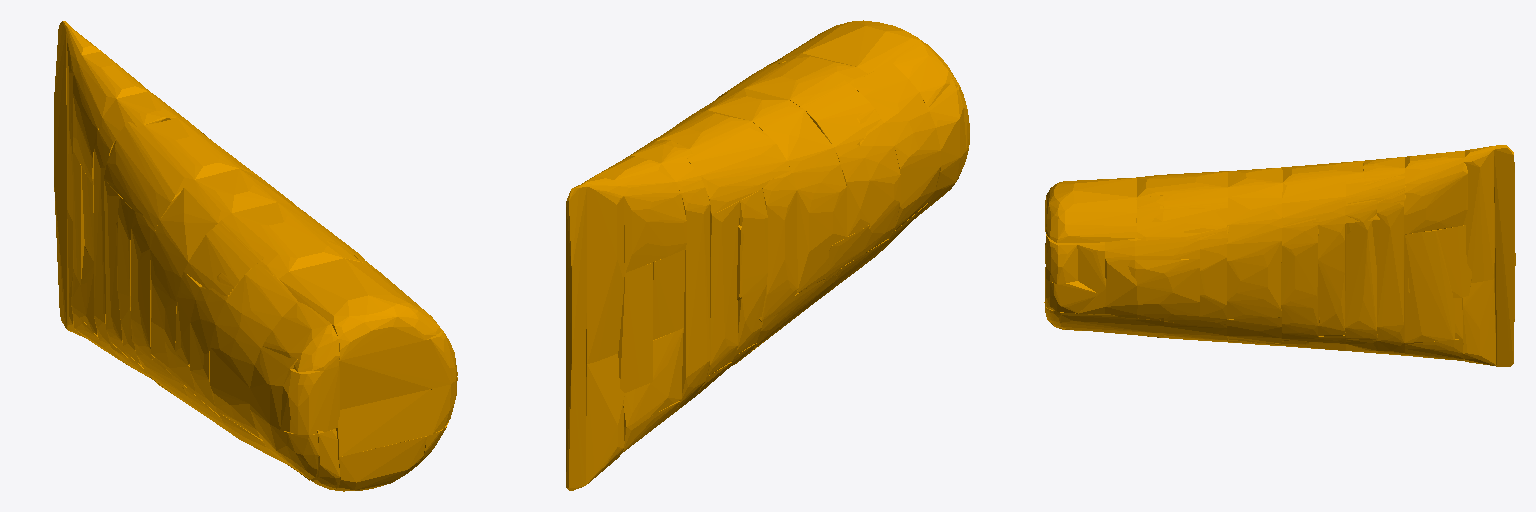
URDF robot description (tube-baby):
<?xml version="1.0" ?>
<robot name="tube-baby">
  <link name="baseLink">
    <contact>
      <lateral_friction value="1.0"/>
      <inertia_scaling value="3.0"/>
    </contact>
    <inertial>
      <origin rpy="0 0 0" xyz="0.000 0.000 0.000"/>
       <mass value=".1"/>
       <inertia ixx="1" ixy="0.0" ixz="0.0" iyy="1" iyz="0.0" izz="1"/>
    </inertial>
    <visual>
      <origin rpy="0 0 0" xyz="0 0 0"/>
      <geometry>
        <mesh filename="tube/tube-baby_nivea_spf.obj" scale="1.0 1.0 1.0"/>
      </geometry>
    </visual>
    <collision>
      <origin rpy="0 0 0" xyz="0 0 0"/>
      <geometry>
        <mesh filename="../collision/tube/tube-baby_nivea_spf.obj" scale="1.0 1.0 1.0"/>
      </geometry>
    </collision>
  </link>
</robot>
        

--- Facts derived from the render (not from the file) ---
Views: 3 orthographic renders of the robot side by side, from view 1: azimuth 30°, elevation 25°; view 2: azimuth 150°, elevation 25°; view 3: azimuth 270°, elevation 25°.
Model tube-baby with 1 links and 0 joints (none), rooted at baseLink, posed all joints at 0.
Links seen in each view (by area): view 1: baseLink; view 2: baseLink; view 3: baseLink.
Link boxes in pixels (left/top/right/bottom): baseLink: left=54, top=21, right=457, bottom=491; baseLink: left=566, top=20, right=969, bottom=490; baseLink: left=1044, top=145, right=1515, bottom=366.
Bounding box of the posed robot: 0.0384 × 0.119 × 0.0615 m (x, y, z).
1 mesh visuals loaded from 1 distinct referenced files (1 OBJ).
